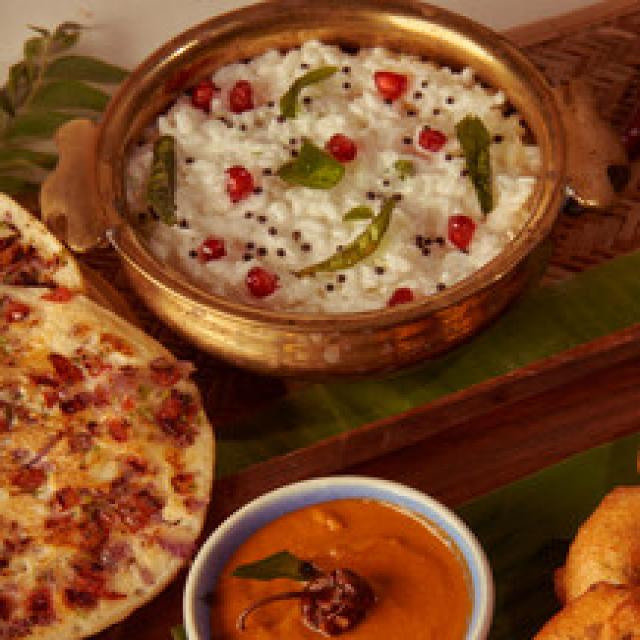CURD RICE: (115, 29, 537, 316)
CURRY: (209, 489, 474, 637)
